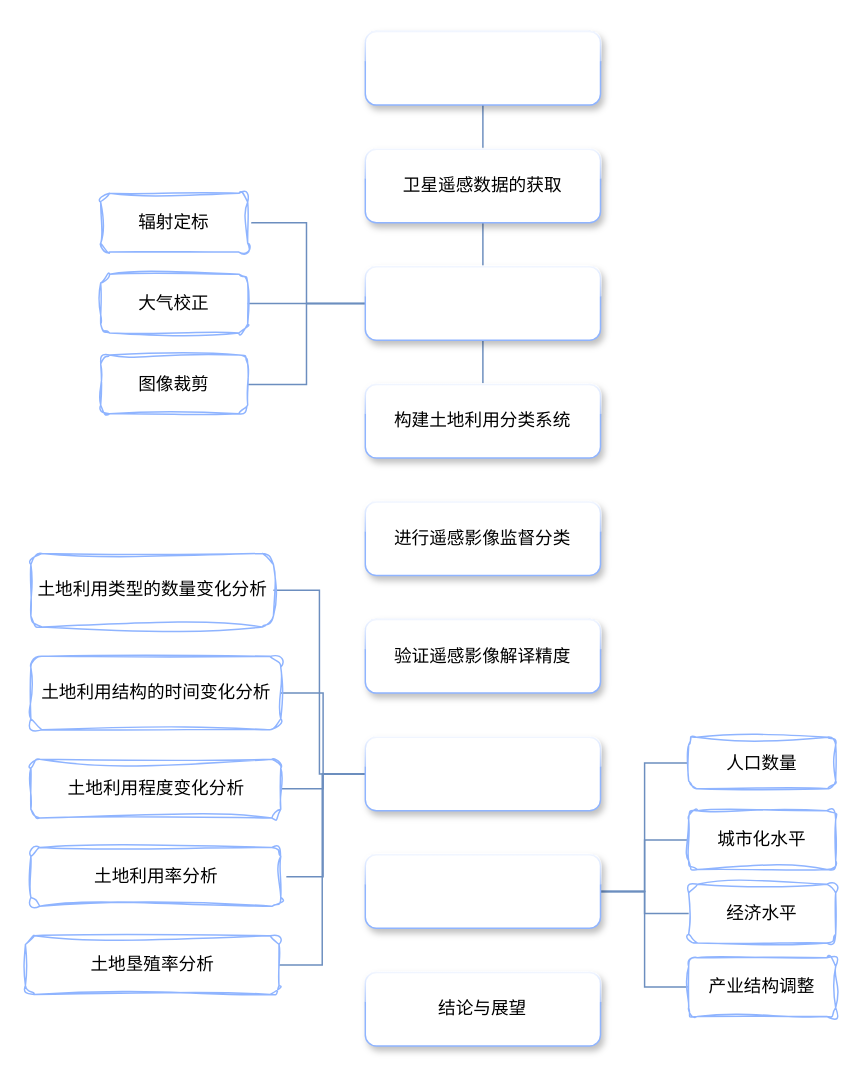
The diagram is 863 pixels wide and 1082 high, and some of its shapes have lost their labels. The centre of each missing label's shape, as x and y in pixels:
"卫星遥感影像预处理" belongs at point (483, 305).
"土地利用覆被变化分 析" belongs at point (483, 775).
"土地利用覆被变化驱 动力分析" belongs at point (483, 893).
"提出问题：萧山区土 地利用及驱动力分析" belongs at point (483, 69).
